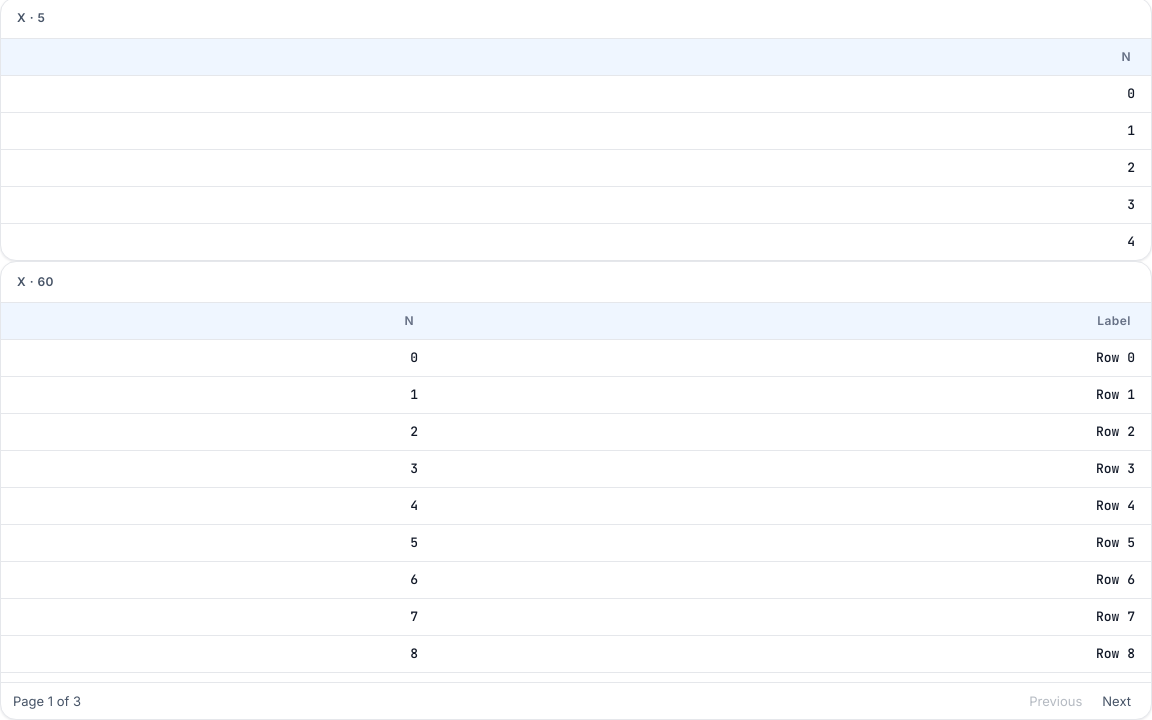
Test: TableBlock — pagination and sticky header (only past the row-count threshold) › paginates and adds a scroll region with a sticky header for a large table
The width and height of the screenshot is (1152, 720).
(page scrolled)
Expected: the column heading with class "sticky" is shown, [1,303,434,340]
Click the button "Next" at (1117, 701), box [1094,689,1139,713]
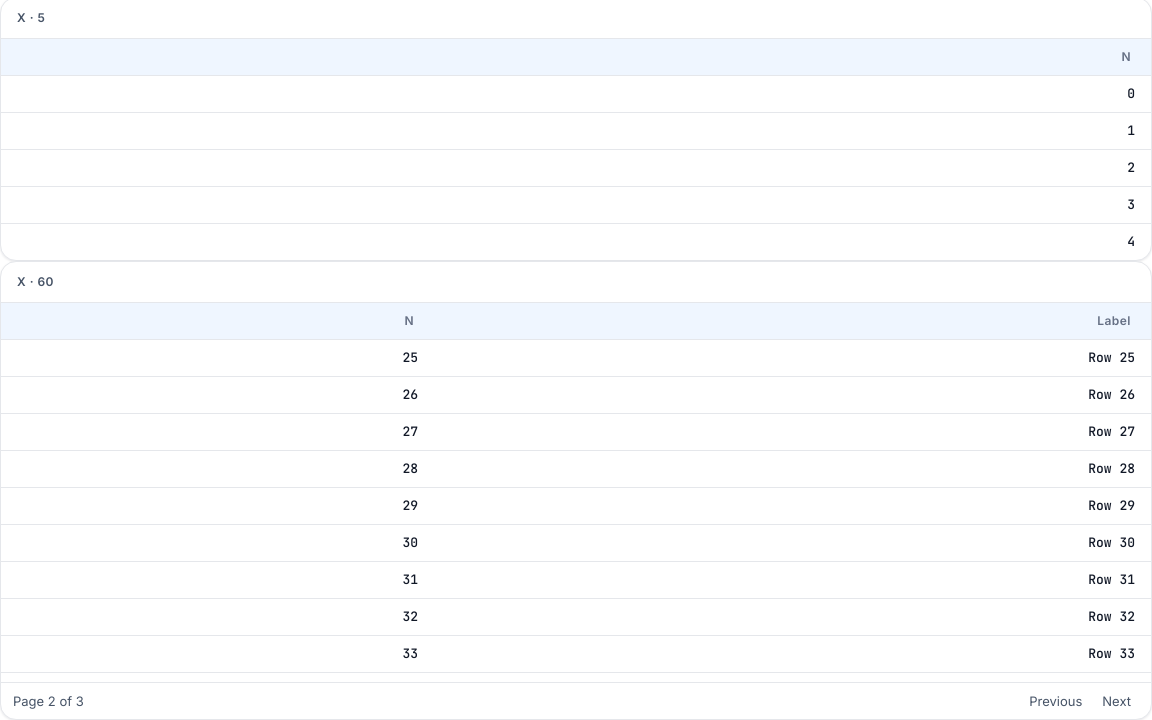
Now the text "Page 2 of 3" is shown, box [13,691,84,711]
Now the row "25 Row 25" is shown, box [1,340,1151,376]
